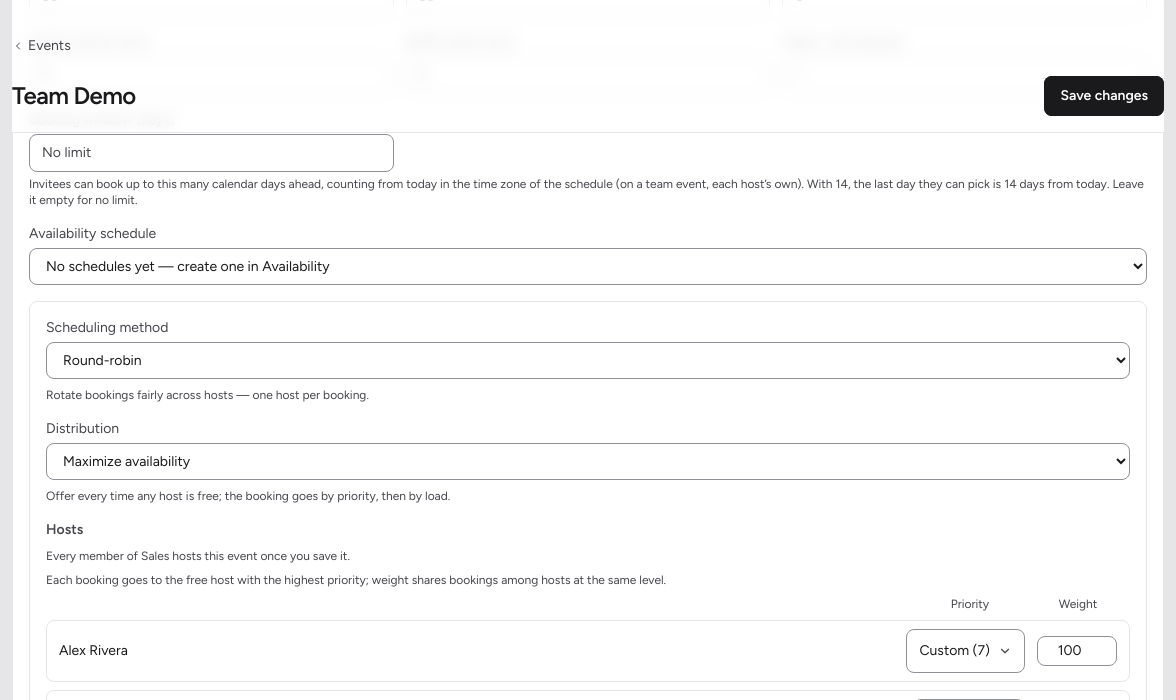
Test: the team event editor saves each host priority › collective has no priority
(page scrolled)
Select "Collective" in the 2nd dropdown at (588, 360), box 46,342 -> 1130,379
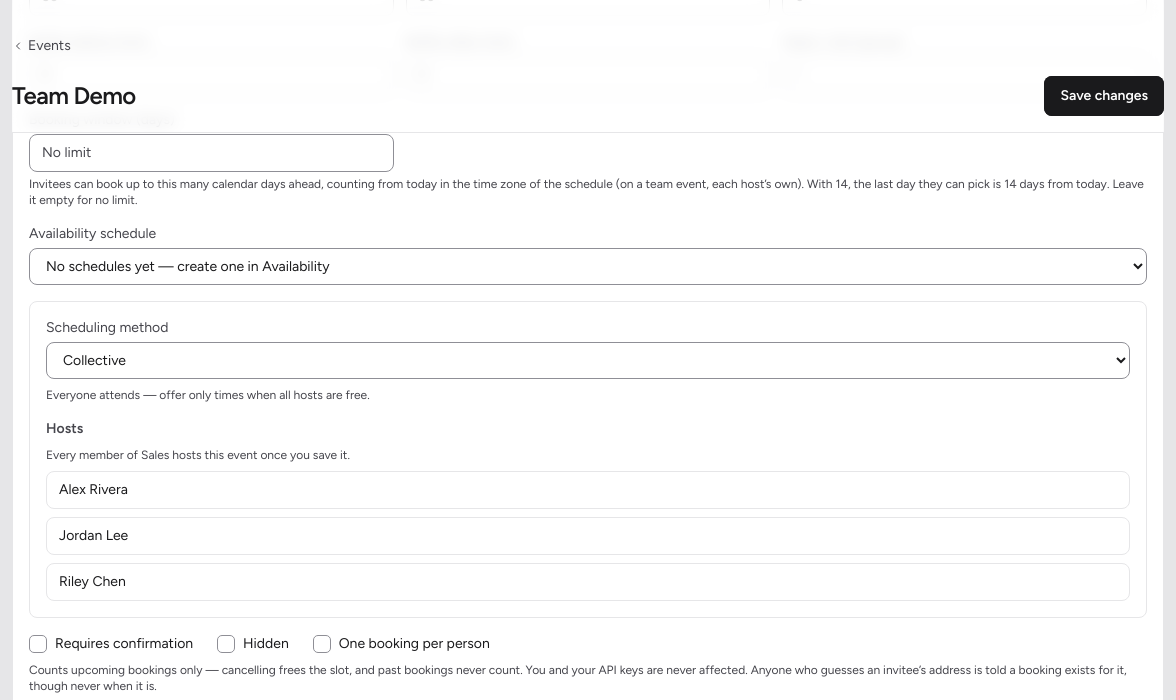
Check: the text "Each booking goes to" is gone
